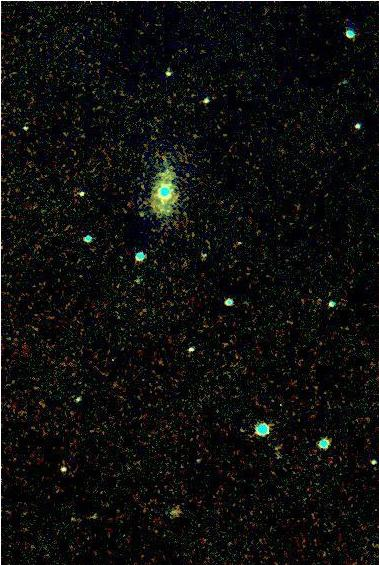star: (123, 199, 153, 229)
